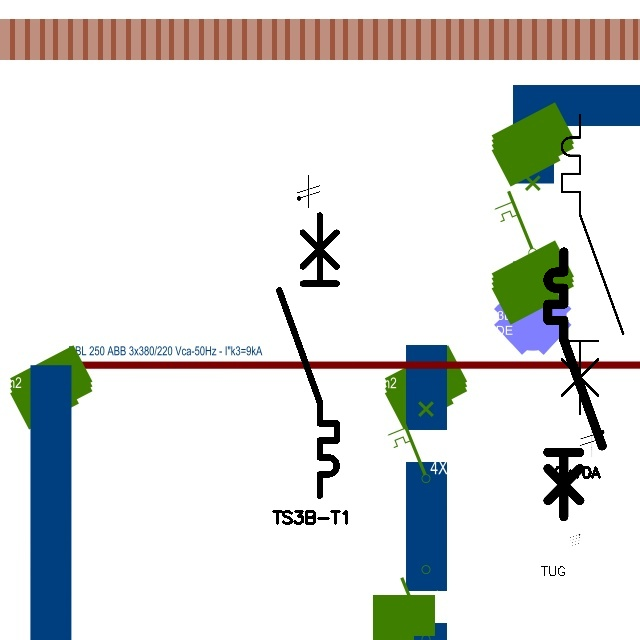interruptor_termomagnetico: (554, 107, 631, 421), (272, 208, 344, 502), (541, 245, 609, 524)
